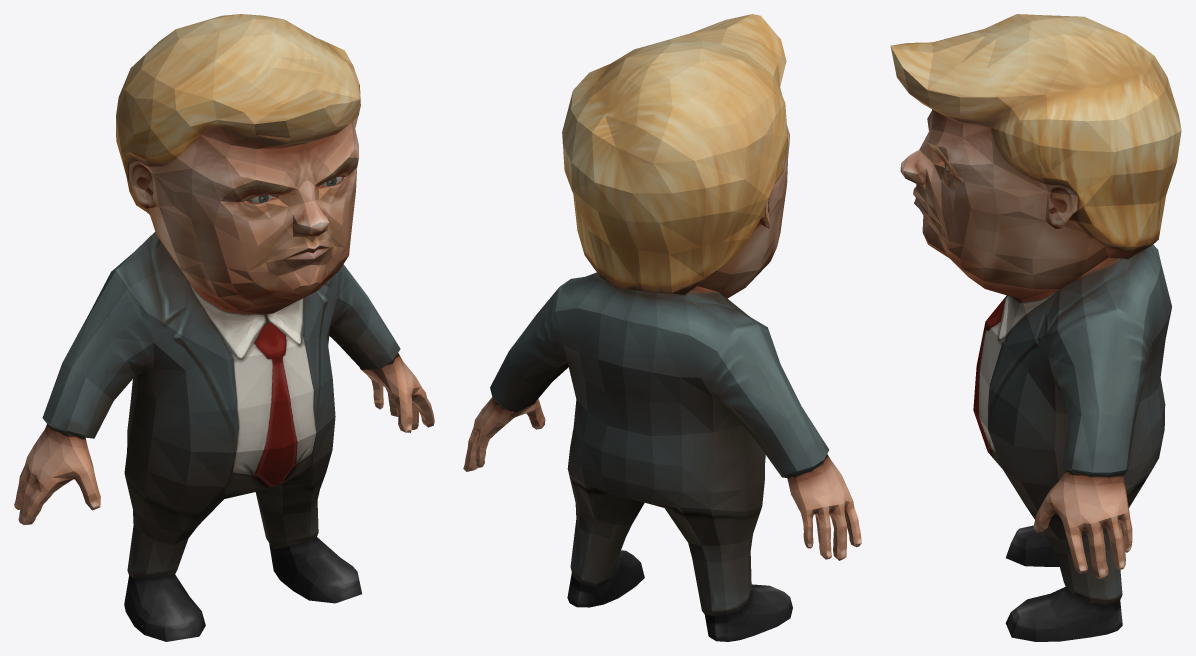
File: Trump.obj
3 renders of one model, left to right at view 1: azimuth 30°, elevation 25°; view 2: azimuth 150°, elevation 25°; view 3: azimuth 270°, elevation 25°, orthographic. The views are drawn at different scales.
Parts seen in each view (by area): view 1: QIHL23IIBO25M57B3GBOO0Z0I; view 2: QIHL23IIBO25M57B3GBOO0Z0I; view 3: QIHL23IIBO25M57B3GBOO0Z0I.
Boxes of the visible parts, x1,y1,x2,y2 form: QIHL23IIBO25M57B3GBOO0Z0I: [14, 14, 434, 641]; QIHL23IIBO25M57B3GBOO0Z0I: [463, 14, 861, 641]; QIHL23IIBO25M57B3GBOO0Z0I: [890, 14, 1181, 641].
Size of the model in its own units: 1.3 by 1.75 by 0.817.
Materials: 1 (1 with a texture image).
